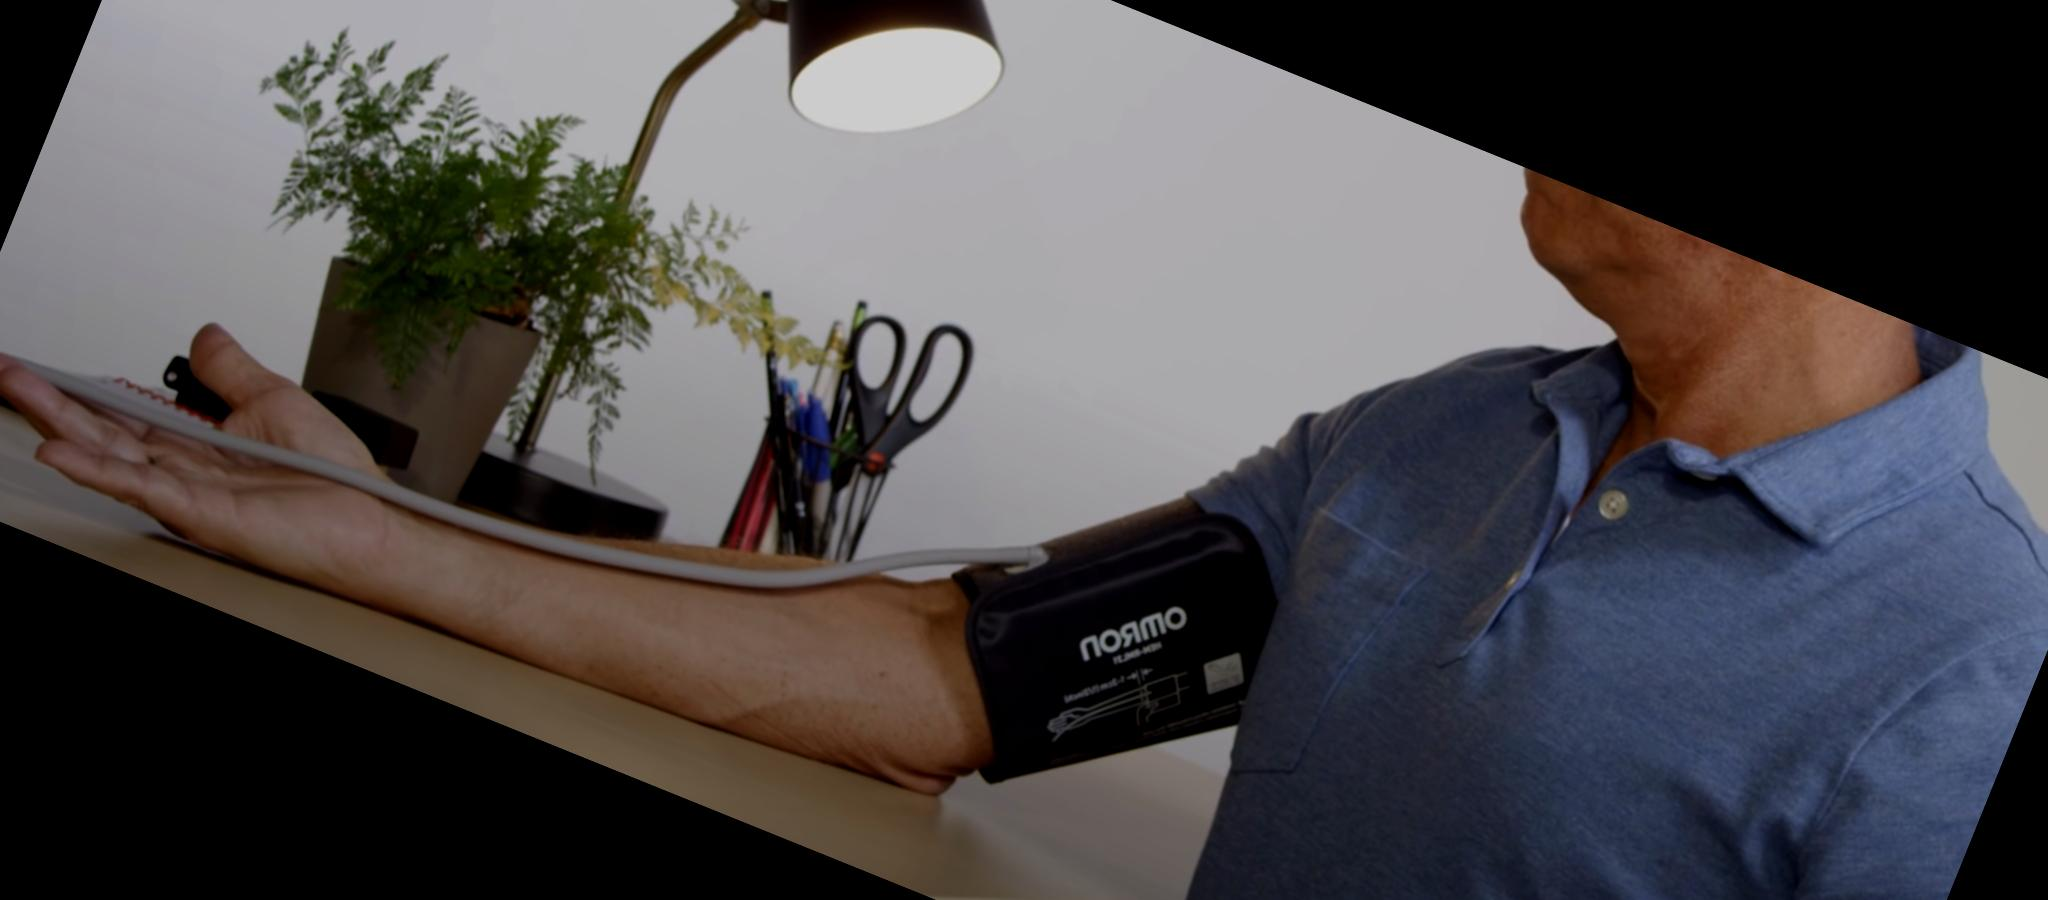cuff: (909, 440, 1307, 865)
